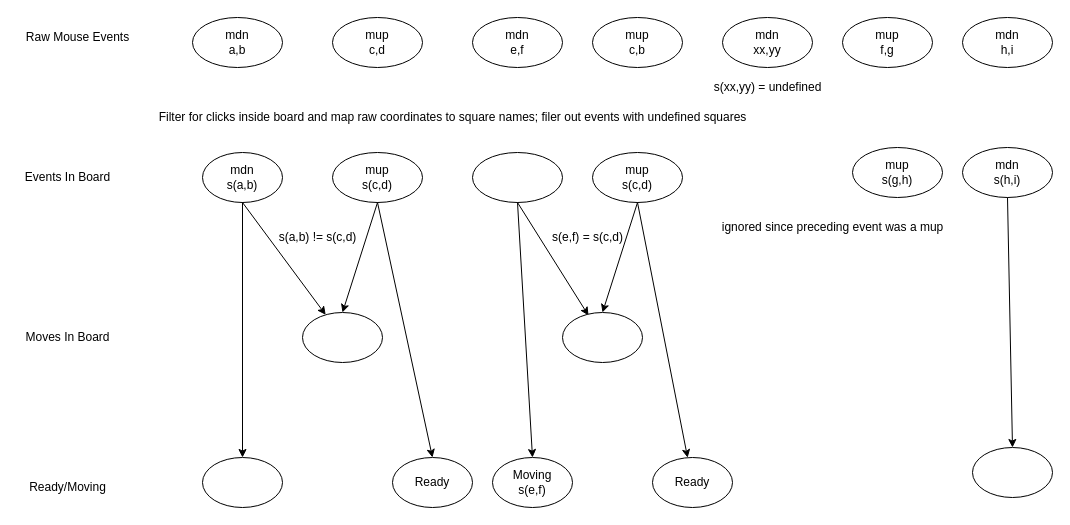
Image size: 1070x525. Some labels were removed from this diagram. Each missing label, with the centre of its shape:
click s(e,f): point (602, 337)
mdn s(e,f): point (517, 177)
move s(a,b),s(c,d): point (342, 337)
Moving s(a,b): point (242, 482)
Moving(h,i): point (1012, 472)
